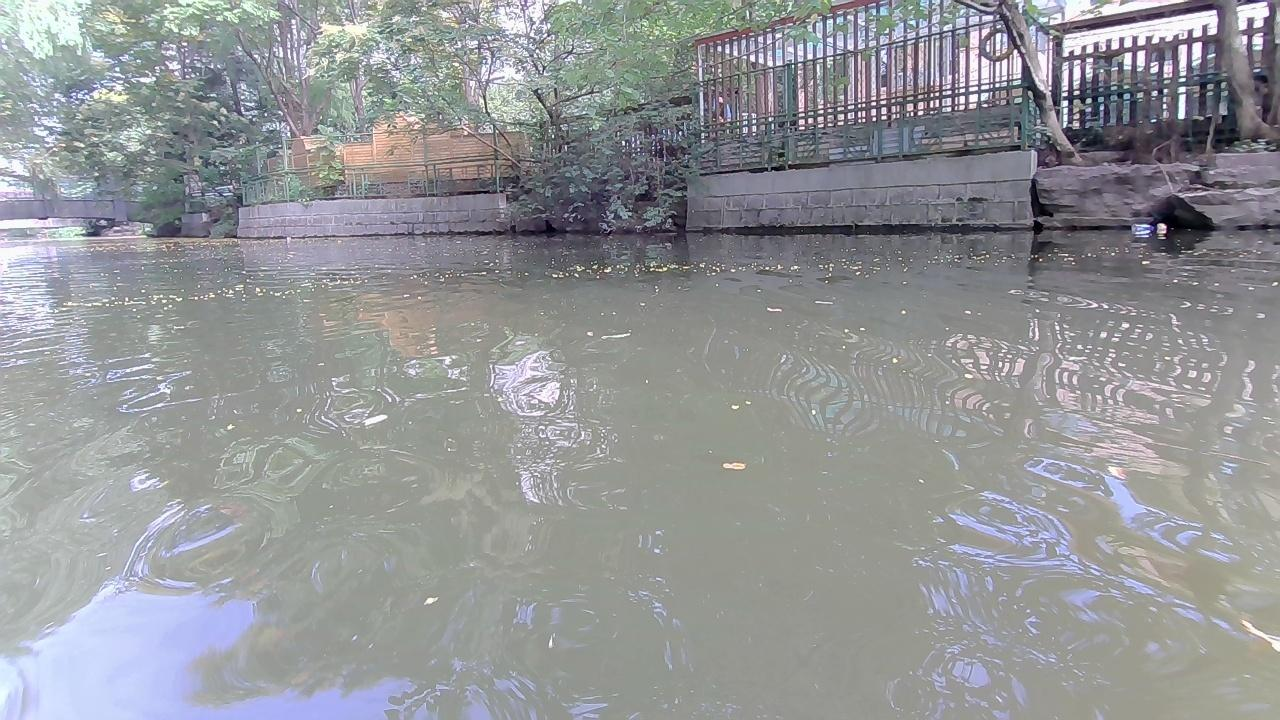bottle: (1132, 221, 1152, 234), (1153, 220, 1166, 233)
